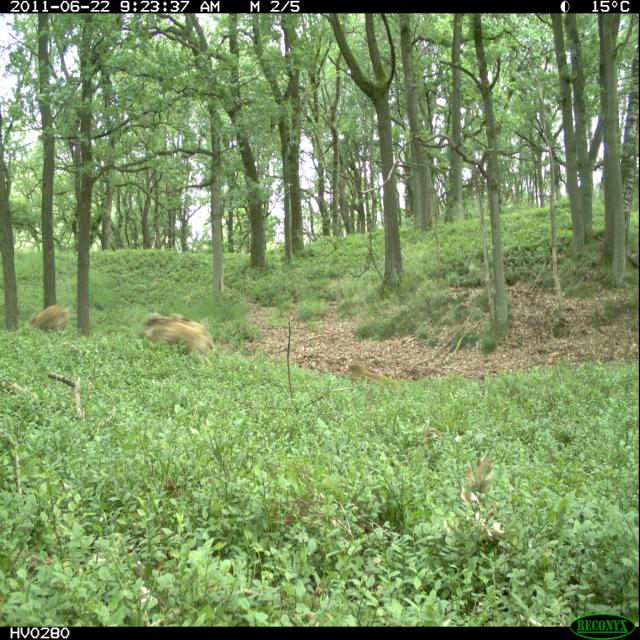boar: (130, 292, 218, 386), (22, 286, 67, 350)
